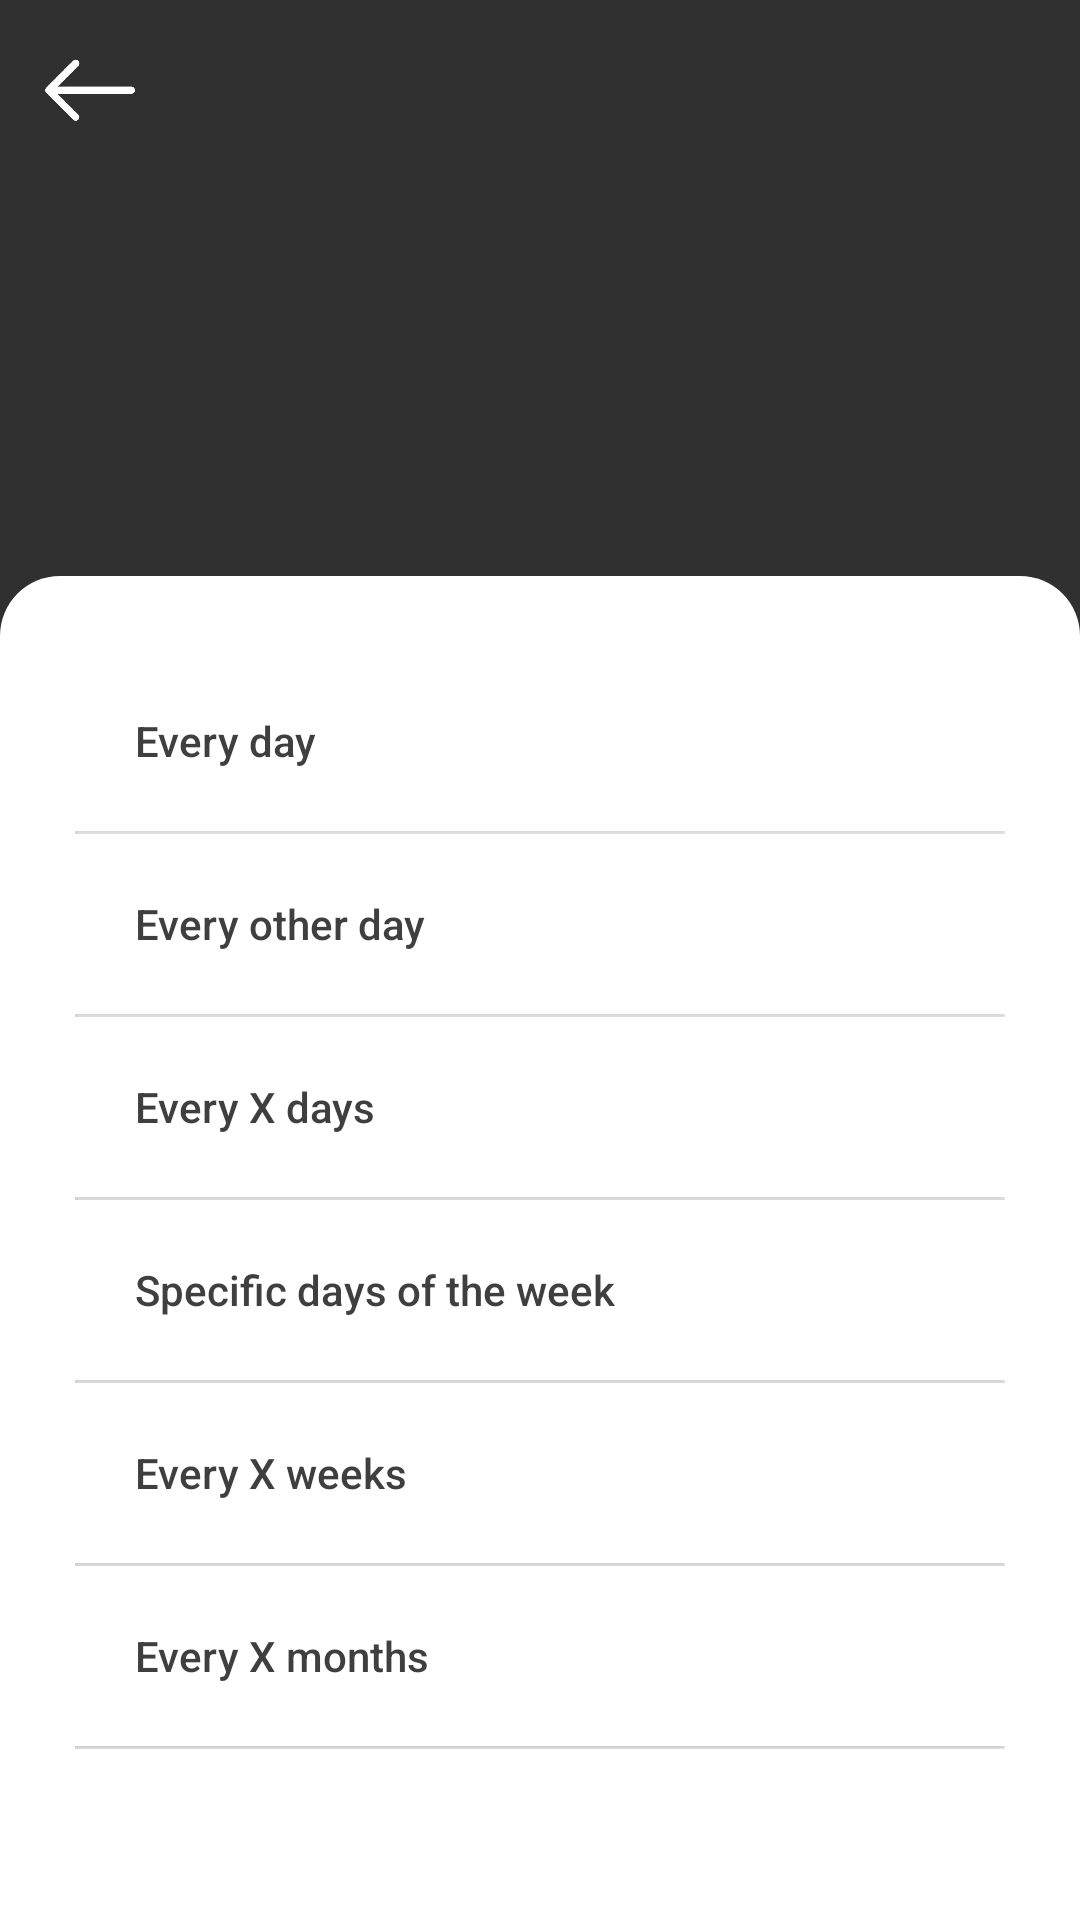

Where to tap for icons on this 1080w x 1920h app screen, as (x=x, y=y):
back: (x=90, y=90)
